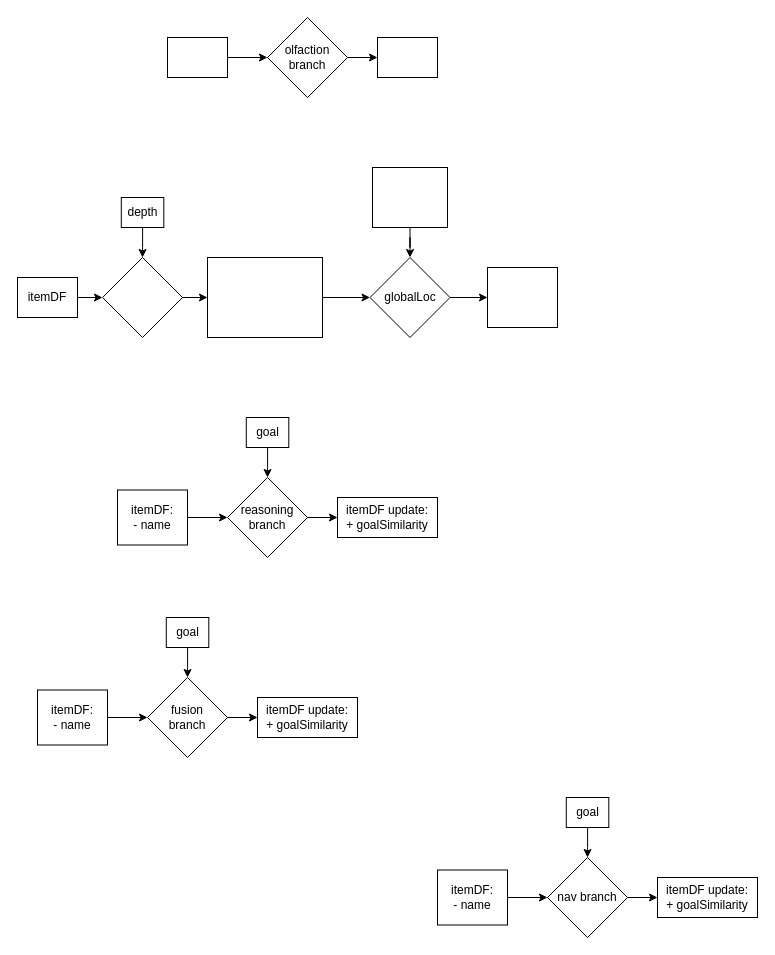
Image size: 775x955. Some labels were removed from this diagram. The box of each missing label's shape, as (x1, y1, x2, y2) in pixels:
itemDF update: + glb3DLoc: (486, 266, 558, 328)
itemDF update: + name + conf + vizLoc + depth: (206, 256, 322, 338)
objDetector: (102, 256, 182, 338)
plume reading: (376, 36, 438, 78)
robot pos, yaw: (372, 166, 448, 228)
source position: (166, 36, 228, 78)
